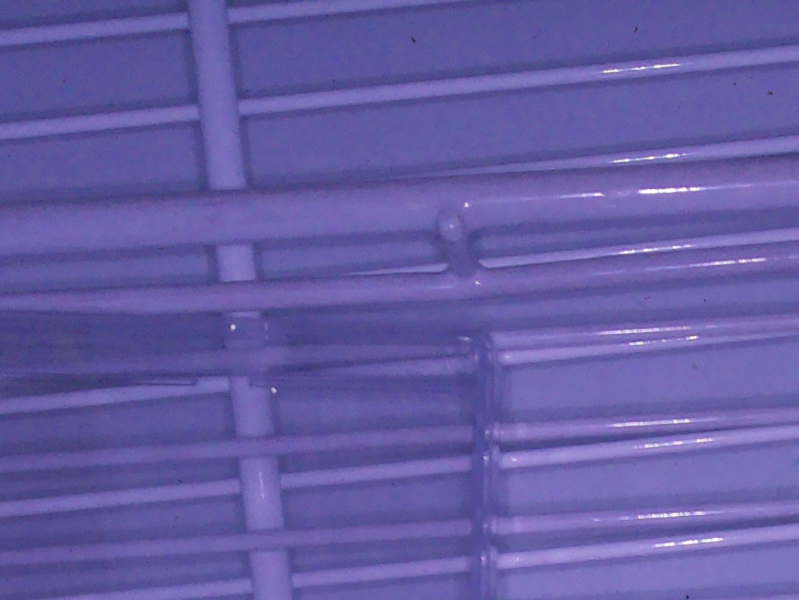plate: (1, 315, 500, 600)
